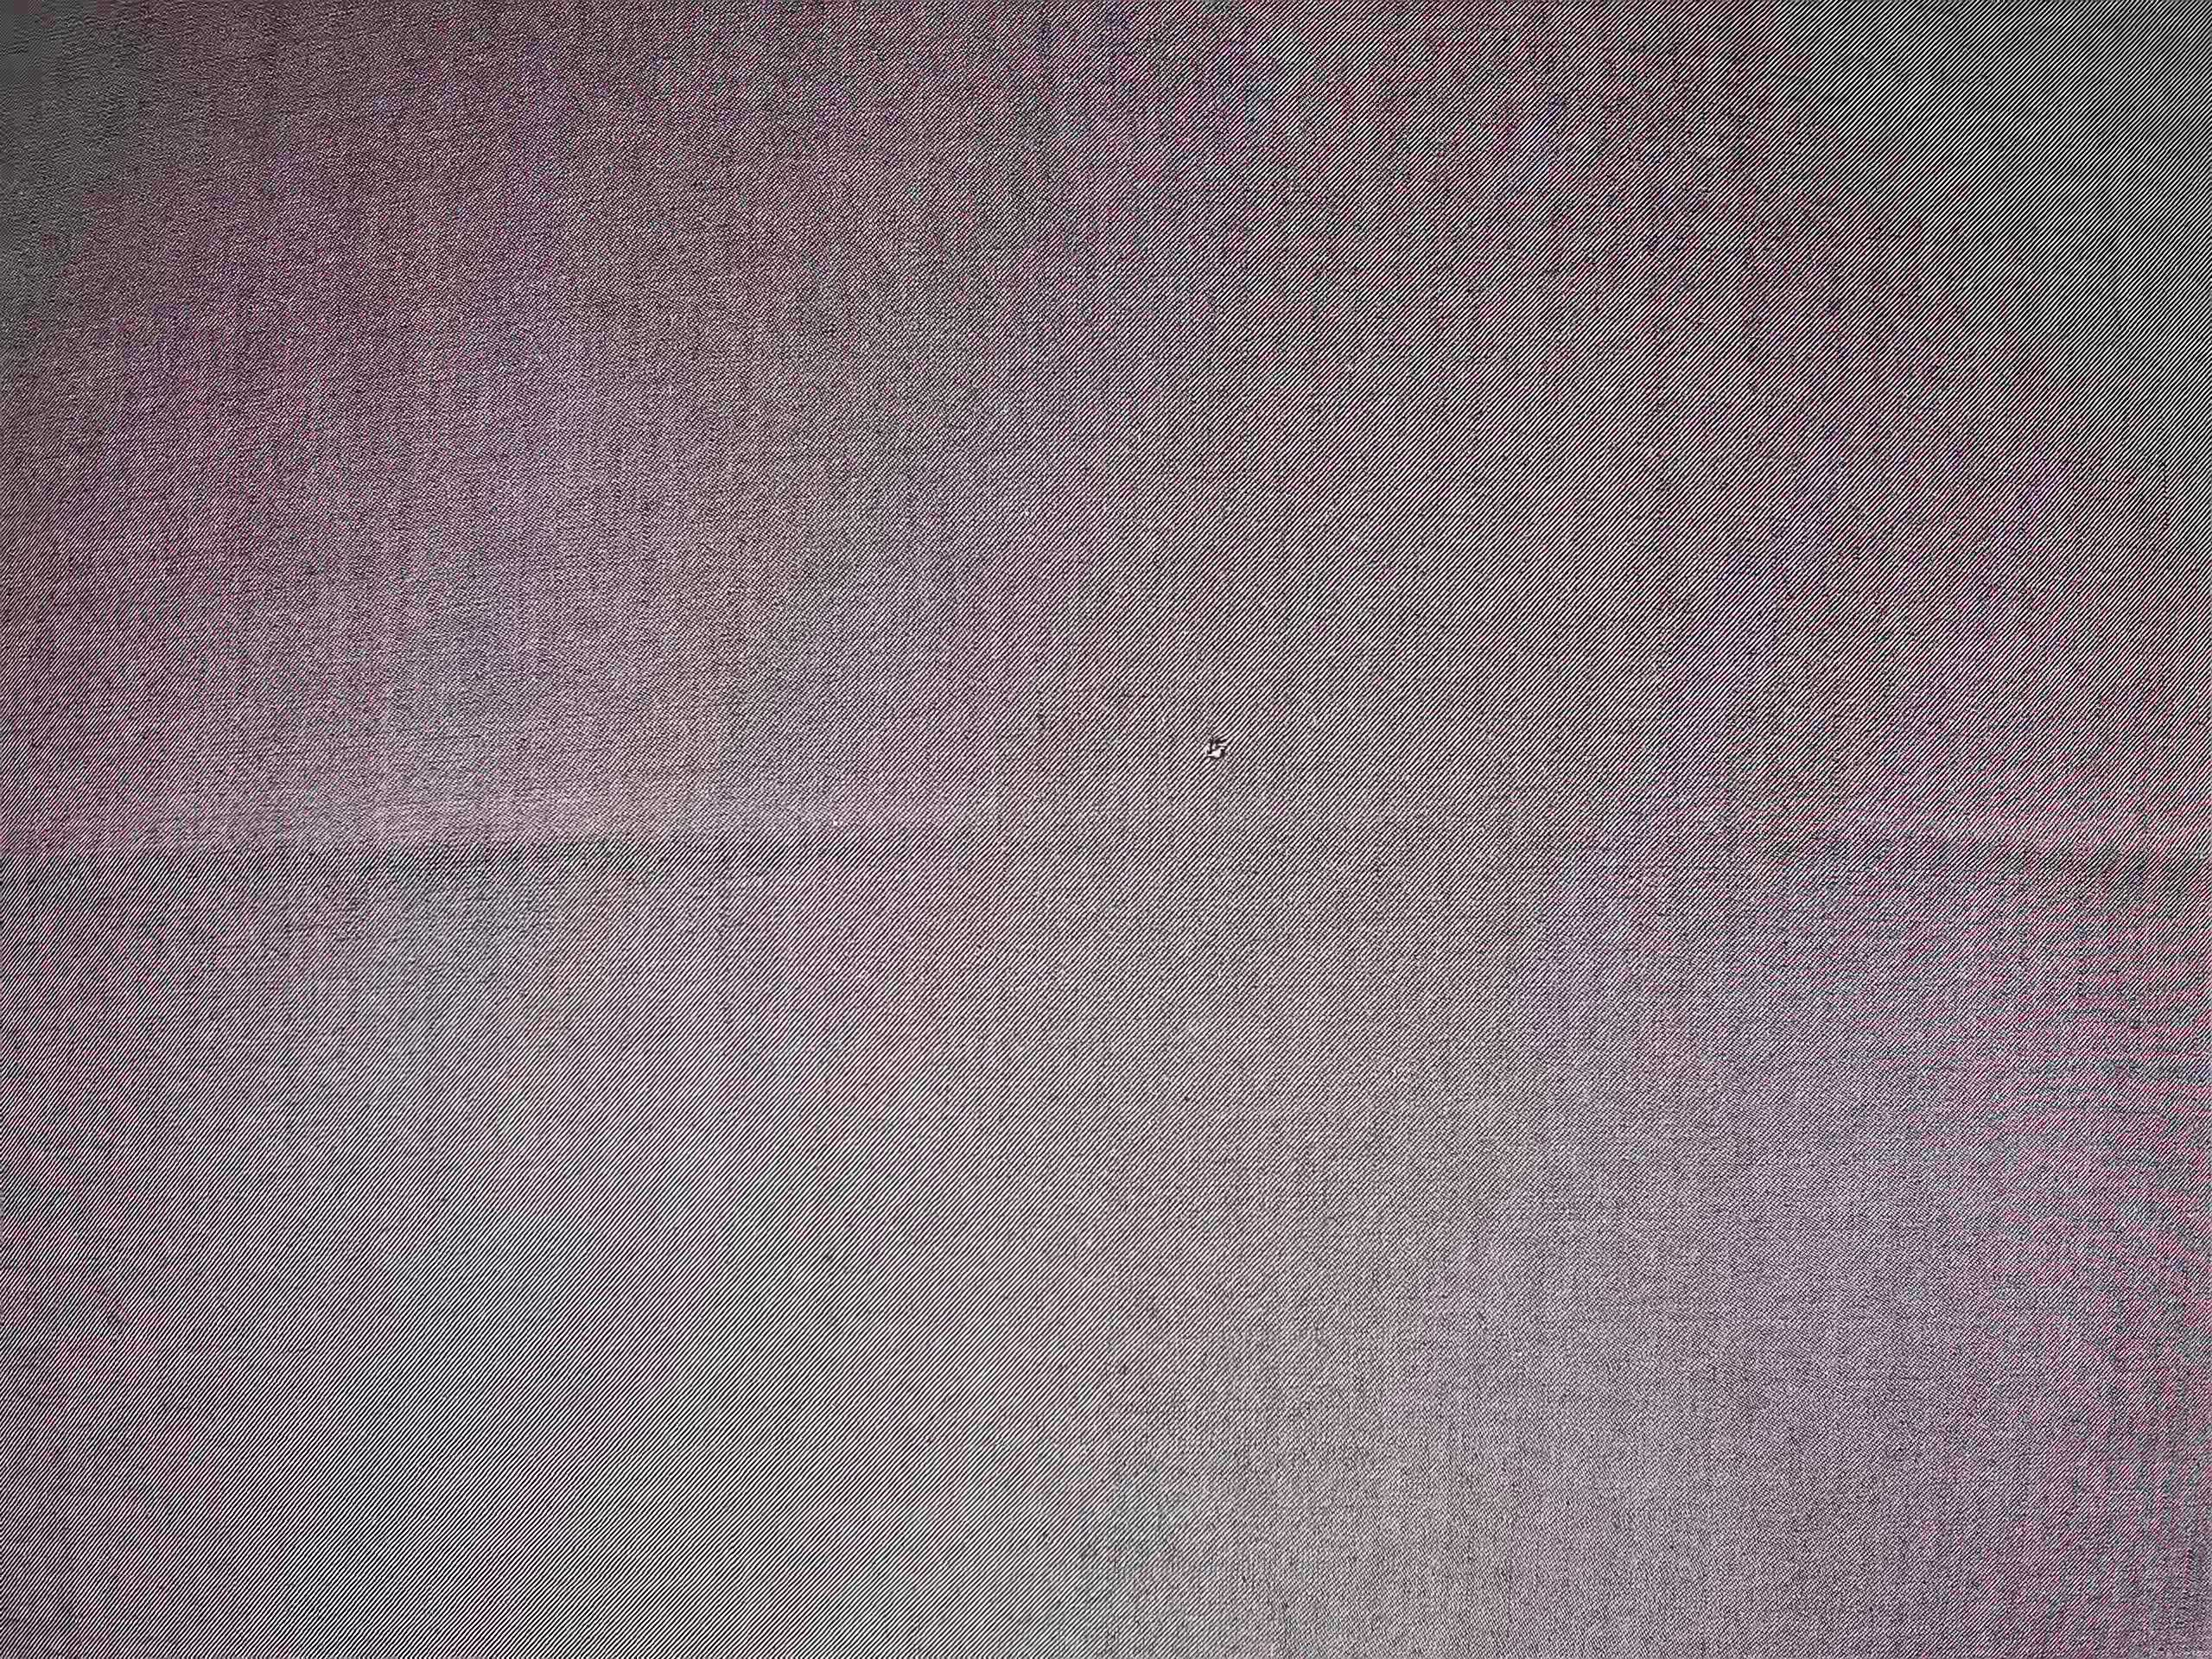rubbing-hole: (1198, 725, 1235, 770)
